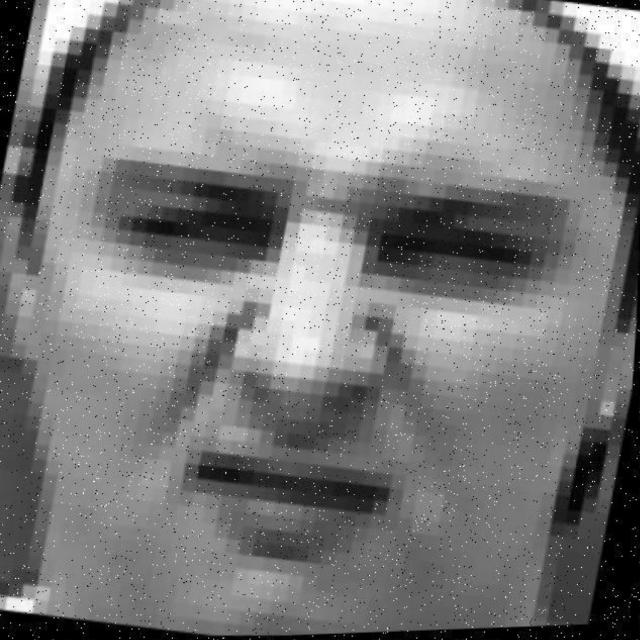Angry: (15, 28, 640, 640)
